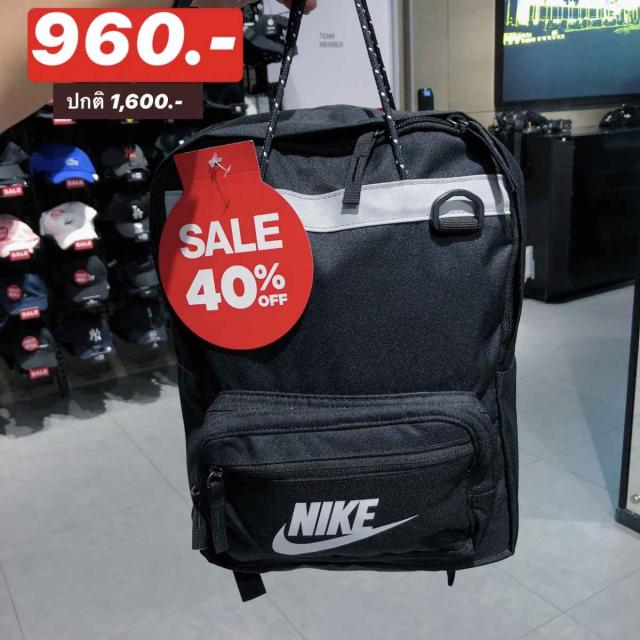Handbag: (160, 105, 526, 573)
